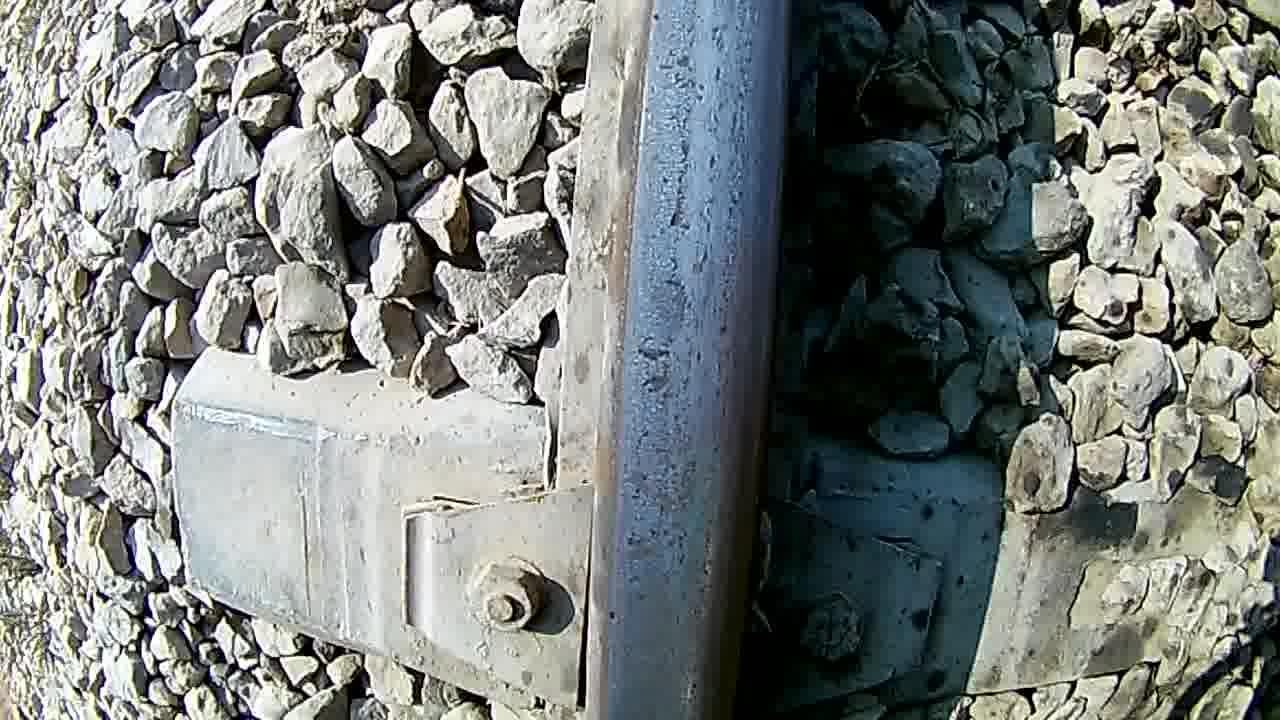crack: (596, 0, 789, 720)
